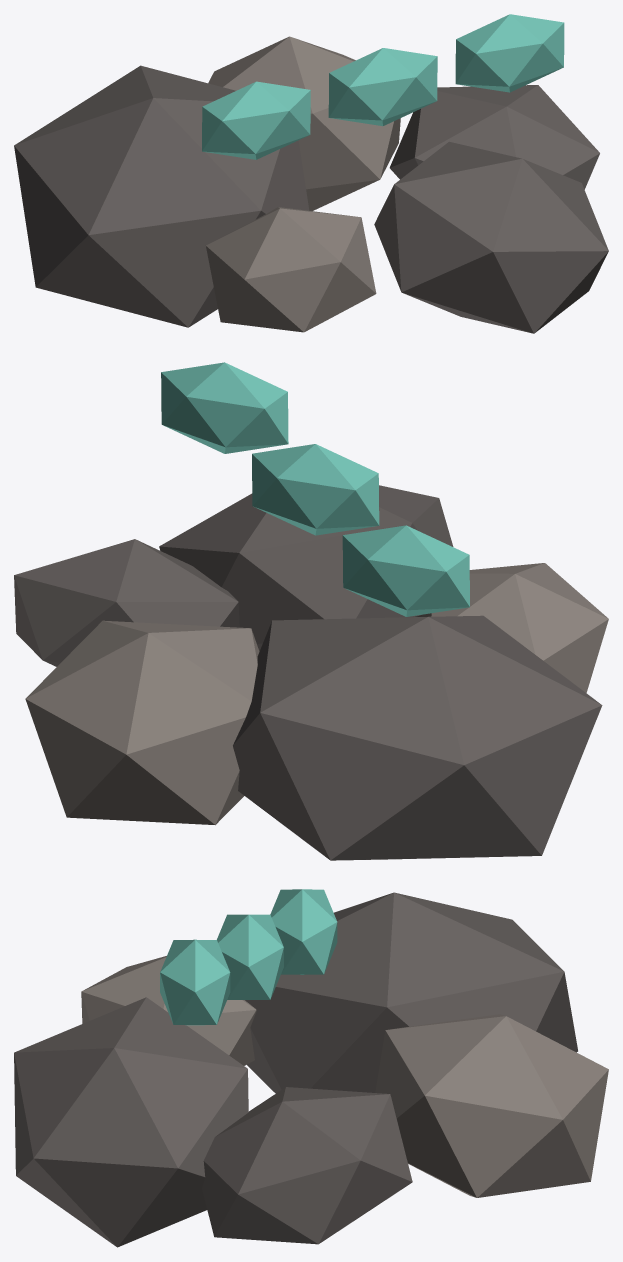
File: ore_spoil.glb
The picture shows the model from 3 angles, top to bottom: view 1: azimuth 30°, elevation 25°; view 2: azimuth 150°, elevation 25°; view 3: azimuth 270°, elevation 25°; orthographic projection. The views are drawn at different scales.
Parts seen in each view (by area): view 1: ore_spoil; view 2: ore_spoil; view 3: ore_spoil.
Boxes of the visible parts, <box> form: ore_spoil: <box>14,14,608,333</box>; ore_spoil: <box>14,362,608,860</box>; ore_spoil: <box>14,889,608,1247</box>.
Bounding box in the file's own units: 0.5804 × 0.3315 × 0.5554.
